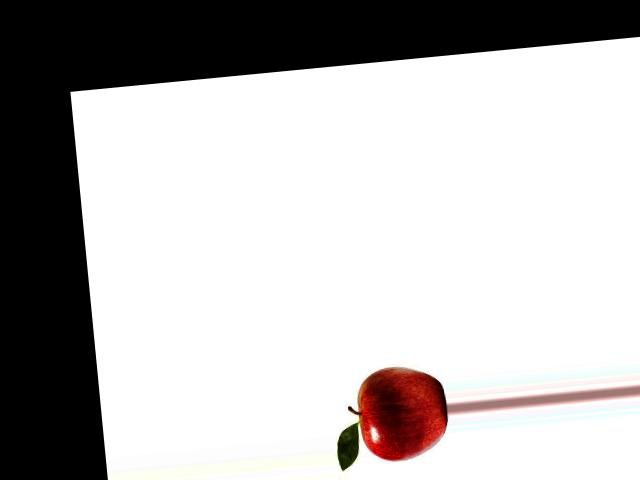apple: (348, 360, 452, 470)
